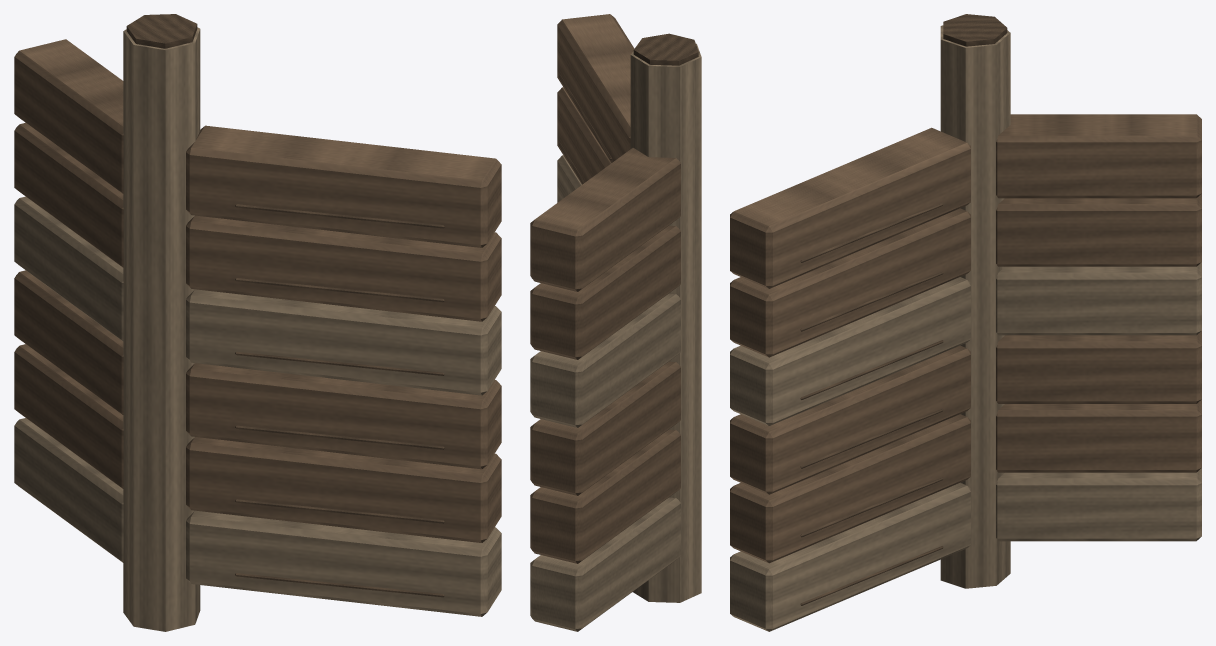
The model's file is wall_mask_18.glb.
The picture shows the model from 3 angles, left to right: view 1: azimuth 30°, elevation 25°; view 2: azimuth 150°, elevation 25°; view 3: azimuth 270°, elevation 25°; orthographic projection. The views are drawn at different scales.
Parts seen in each view (by area): view 1: Weathered timber, Timber worn edges, Dark endgrain; view 2: Weathered timber, Timber worn edges, Dark endgrain; view 3: Weathered timber, Timber worn edges, Dark endgrain.
Part boxes in pixels (x1,y1,x2,y2): Weathered timber: [14, 39, 501, 542]; Timber worn edges: [14, 27, 501, 631]; Dark endgrain: [126, 14, 444, 597]; Weathered timber: [530, 14, 680, 563]; Timber worn edges: [530, 43, 701, 631]; Dark endgrain: [558, 33, 698, 183]; Weathered timber: [730, 114, 1201, 563]; Timber worn edges: [730, 25, 1201, 631]; Dark endgrain: [800, 14, 1007, 605].
Bounding box in the file's own units: 0.6463 × 1.39 × 1.09.
3 materials, 3 textured.
